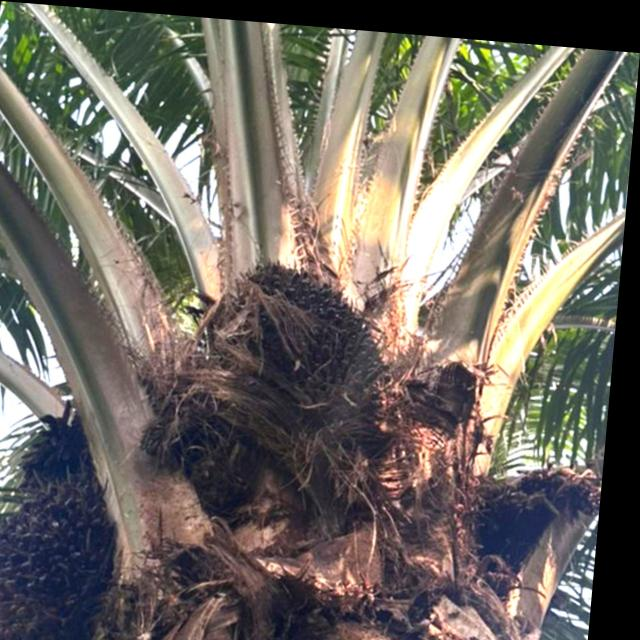unripe: (199, 240, 415, 435)
